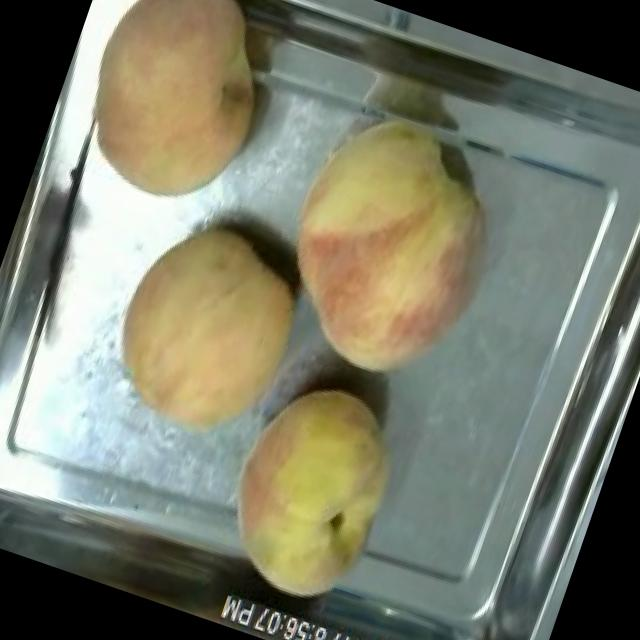Fruit: (245, 92, 531, 406), (84, 195, 332, 465), (197, 358, 426, 625), (42, 0, 303, 232)
